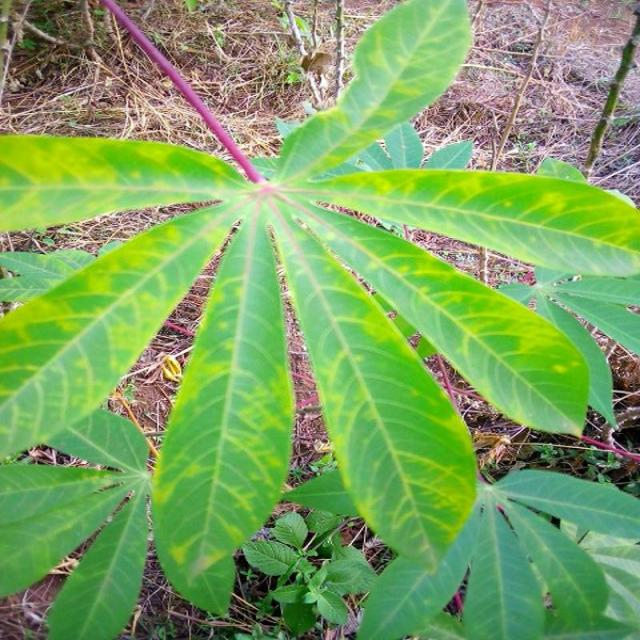cassava leaf: (2, 0, 639, 637), (150, 194, 296, 617)
